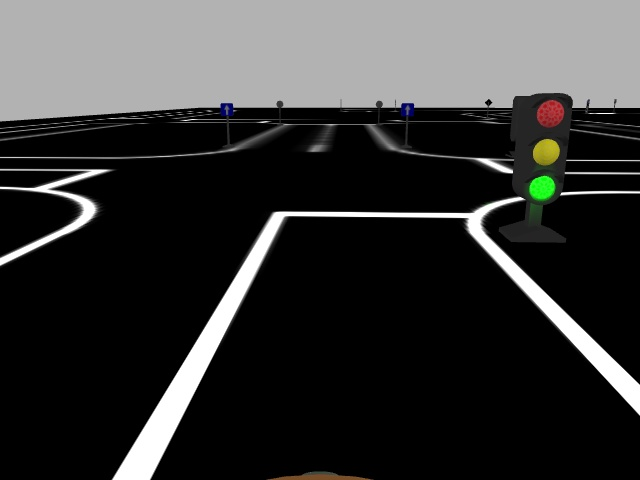green_light: (511, 92, 573, 207)
oneway: (219, 101, 234, 118), (400, 102, 415, 117)
